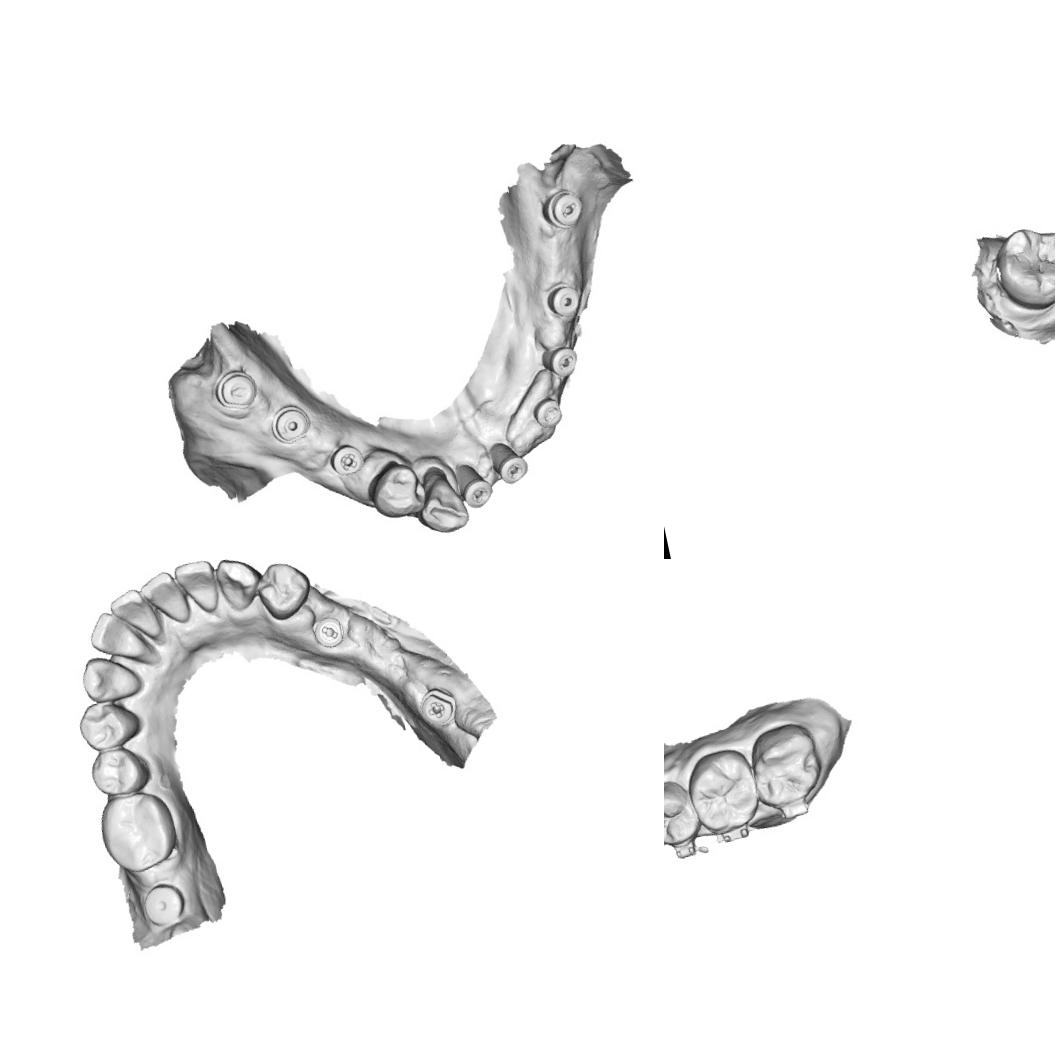canine: (75, 647, 150, 708), (210, 559, 268, 618)
implant: (138, 876, 192, 932), (266, 399, 314, 449), (307, 610, 348, 656), (543, 282, 585, 322)
implant_minus: (211, 365, 264, 420), (538, 184, 588, 234), (538, 341, 583, 383), (530, 394, 569, 432)
implant_plus: (449, 454, 502, 518), (412, 680, 464, 733), (485, 436, 532, 489), (323, 437, 370, 482)
incisor: (103, 581, 168, 650), (84, 603, 151, 669), (410, 472, 473, 542), (134, 562, 192, 632), (170, 559, 226, 621)
molar: (90, 781, 189, 880), (744, 716, 830, 813), (682, 740, 768, 837), (988, 216, 1055, 318)
premolar: (362, 456, 430, 526), (250, 559, 319, 626), (72, 694, 144, 758), (81, 738, 152, 802), (664, 775, 705, 851)
